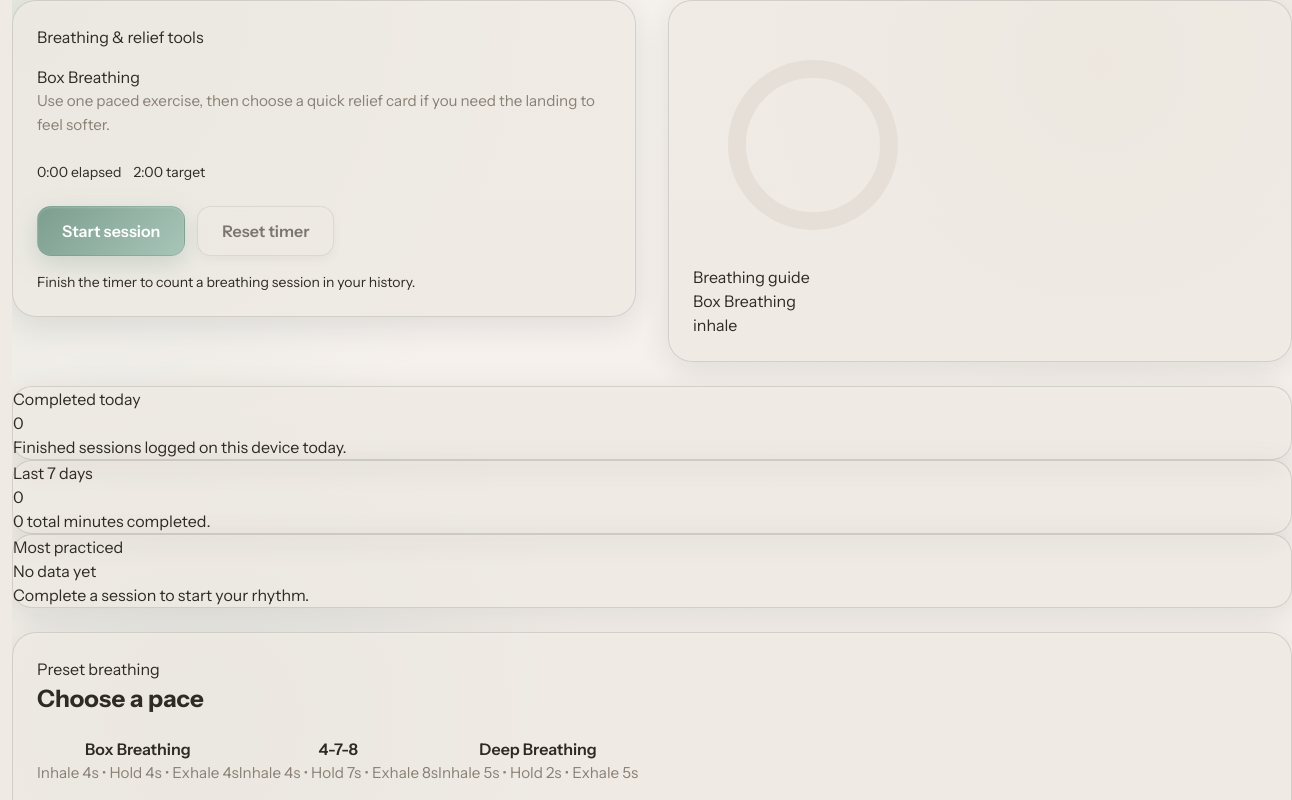
it: BreathePage › resets the active timer when the user switches exercise
Click the button "Start session". click: click(111, 231)
box: [37,206,185,256]
Wait 3000 ms
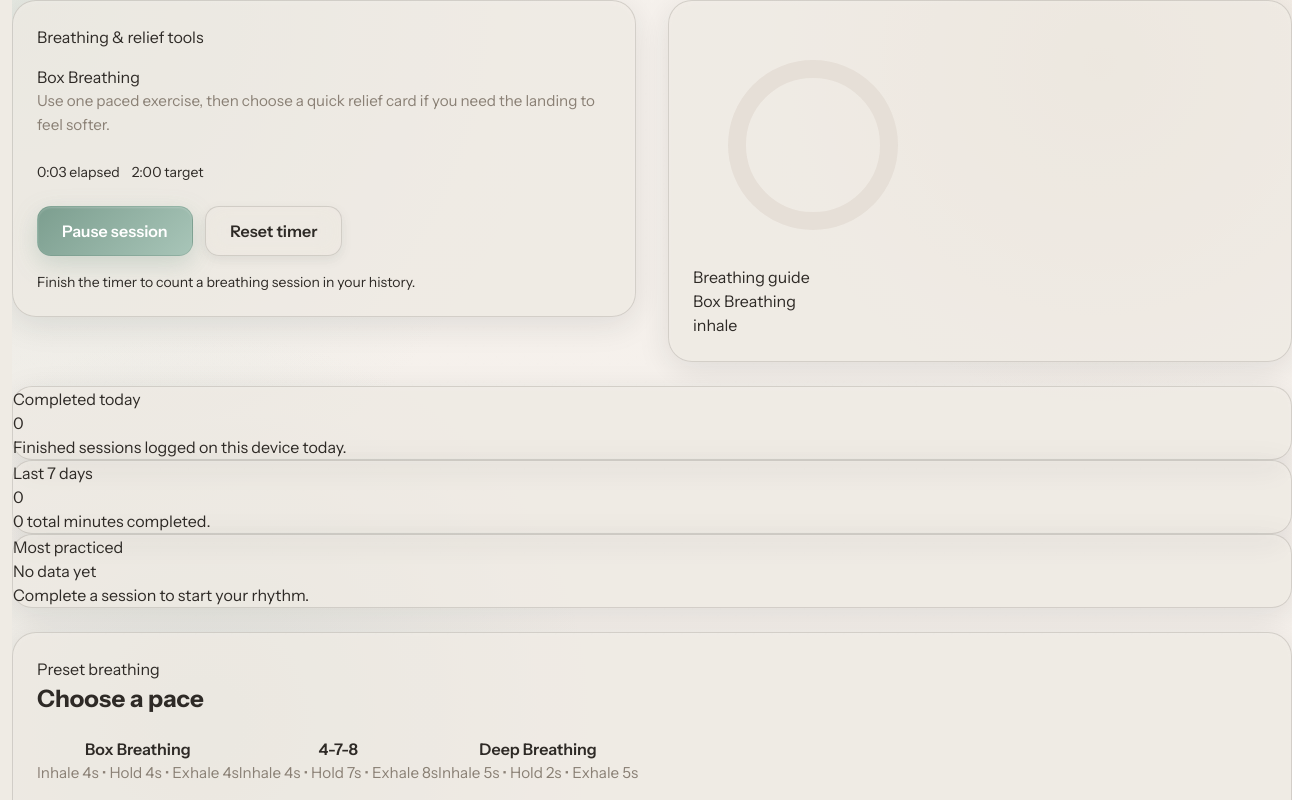
Now the text "0:03 elapsed" is shown, box [37,162,120,182]
Click the button "4-7-8 Inhale 4s • Hold 7s • Exhale 8s". click: click(338, 761)
box: [239,737,438,785]
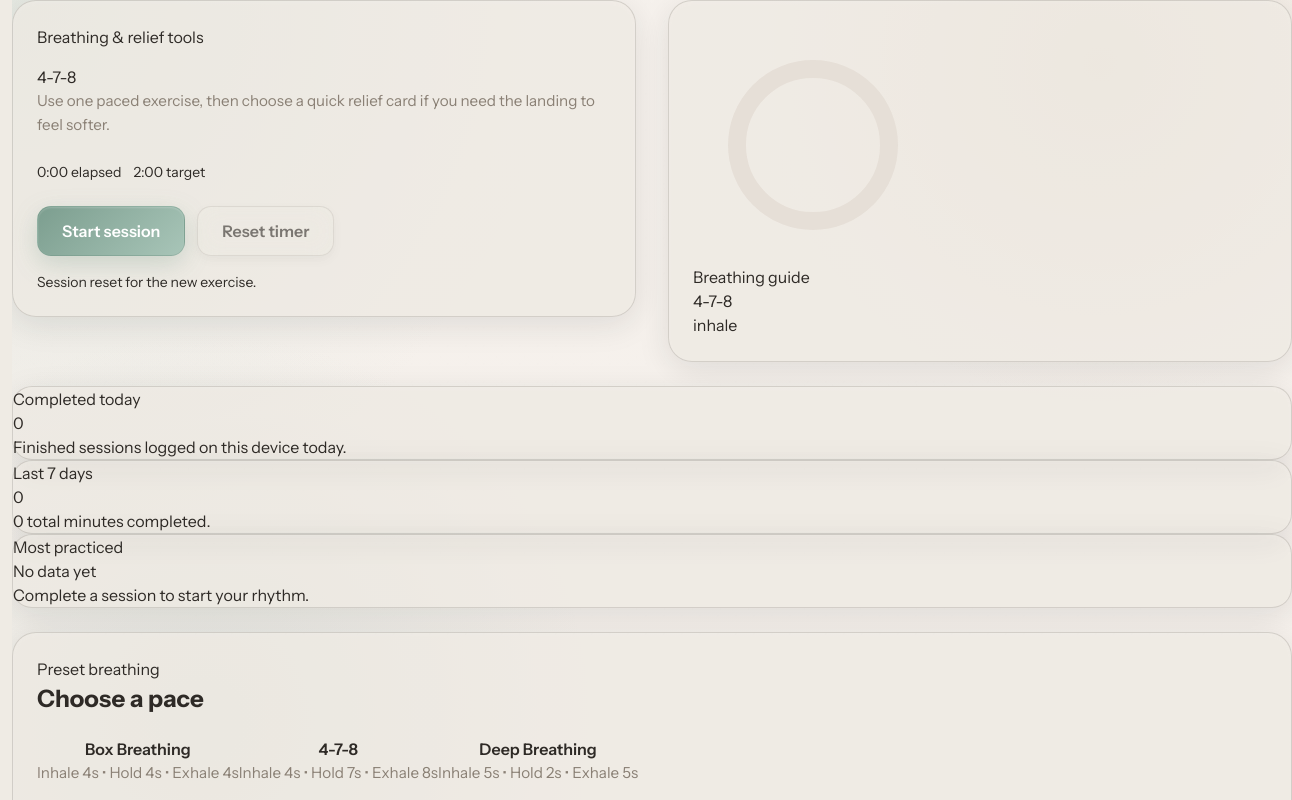
Now the text "0:00 elapsed" is shown, box [37,162,121,182]
Now the button "Start session" is shown, box [37,206,185,256]
Now the text "Session reset for the new exercise." is shown, box [37,273,256,291]
